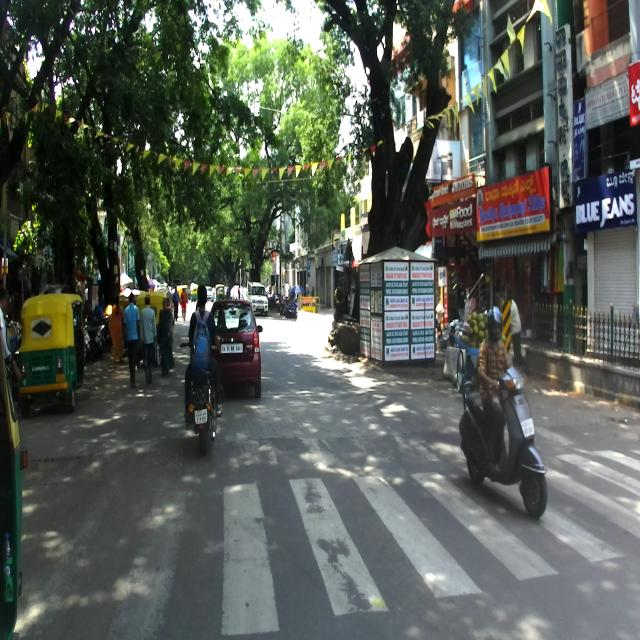auto ahead at: (15, 293, 91, 414)
motorcycle ahead at: (451, 362, 549, 520), (189, 361, 216, 444)
zebra crossing ahead at: (25, 465, 591, 640)
